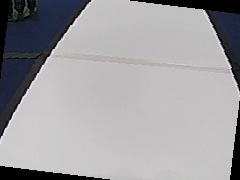corn: (7, 0, 36, 22)
